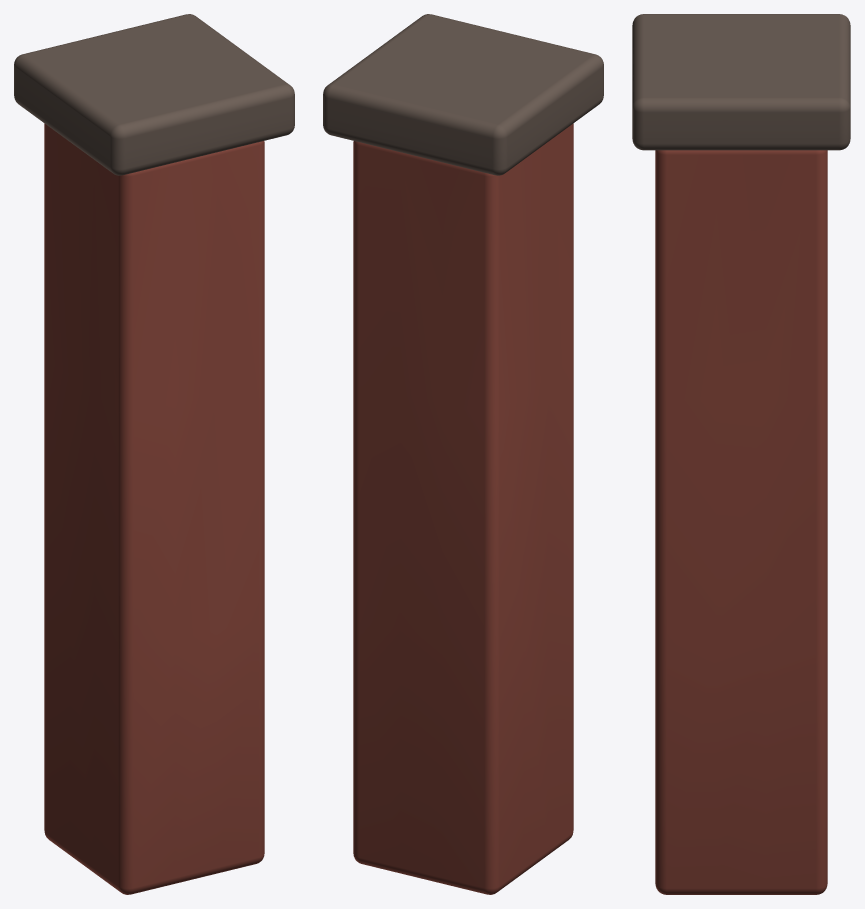
File: house_chimney.glb
The picture shows the model from 3 angles, left to right: view 1: azimuth 30°, elevation 25°; view 2: azimuth 150°, elevation 25°; view 3: azimuth 270°, elevation 25°; orthographic projection. The views are drawn at different scales.
Visible parts, largest first — view 1: house_chimney_main; view 2: house_chimney_main; view 3: house_chimney_main.
Part boxes in pixels (left/top/right/bottom): house_chimney_main: left=14, top=14, right=294, bottom=894; house_chimney_main: left=323, top=14, right=603, bottom=894; house_chimney_main: left=632, top=14, right=850, bottom=894.
Bounding box in the file's own units: 0.38 × 1.55 × 0.38.
